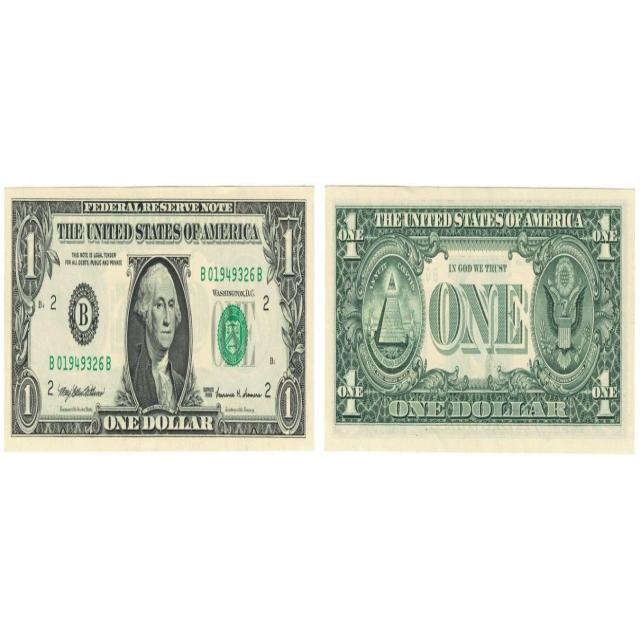1-Back: (323, 184, 634, 454)
1-Front: (4, 186, 312, 449)
